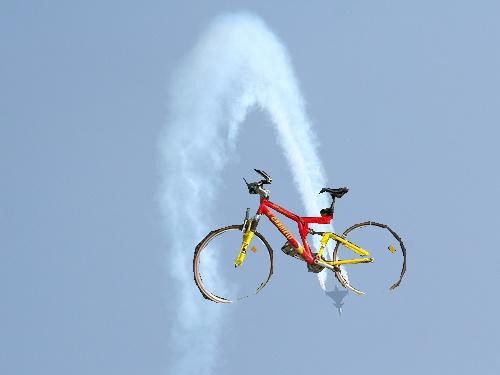tampered: (194, 170, 406, 303)
